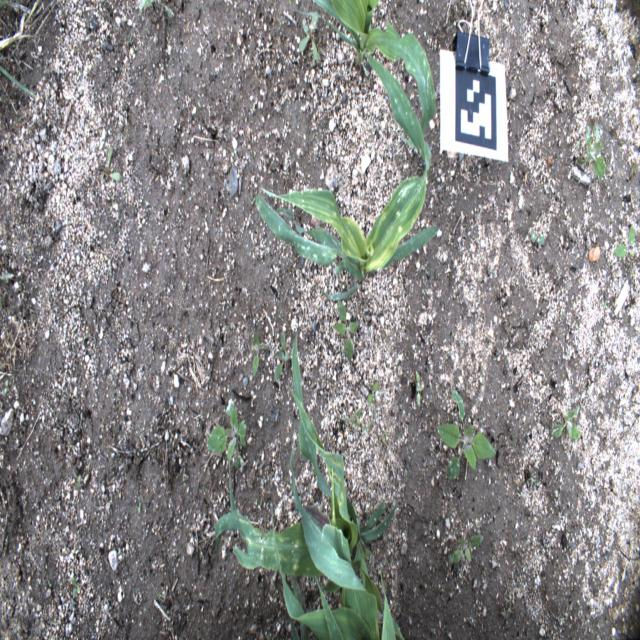crop: (214, 326, 404, 640), (254, 51, 438, 300), (271, 431, 396, 639), (294, 0, 436, 148)
weed: (436, 388, 496, 481), (206, 397, 247, 469), (577, 121, 607, 181), (334, 298, 358, 362), (296, 9, 320, 64), (0, 64, 35, 99), (549, 404, 580, 440), (273, 329, 291, 382), (449, 535, 484, 562), (340, 406, 377, 430), (252, 332, 270, 377), (614, 224, 635, 257), (103, 145, 121, 183), (307, 36, 327, 68), (140, 0, 174, 18), (366, 381, 379, 404), (416, 370, 424, 407), (529, 230, 545, 247), (70, 574, 80, 600), (349, 403, 361, 424), (358, 537, 370, 558), (71, 468, 82, 490), (3, 376, 10, 396), (506, 597, 512, 620), (380, 428, 388, 444), (0, 272, 14, 280), (413, 164, 420, 177), (547, 36, 555, 46), (157, 589, 163, 601), (136, 500, 141, 514), (601, 300, 608, 310), (250, 196, 257, 205), (278, 312, 284, 322), (0, 0, 8, 7), (47, 578, 52, 587), (530, 476, 536, 482), (577, 140, 580, 150)
